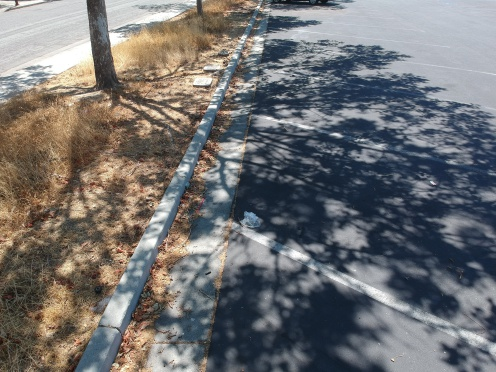plastic bag: (238, 205, 266, 230)
